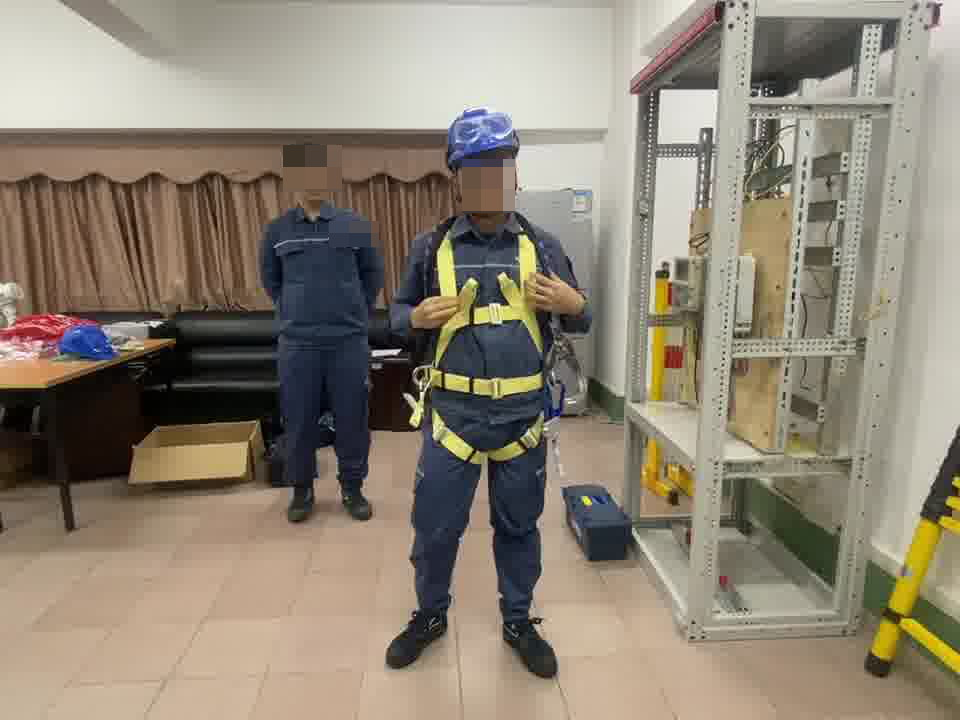downsuit: (407, 413, 553, 620), (275, 352, 372, 484)
halt: (443, 105, 526, 217)
hand: (528, 264, 582, 313), (407, 294, 461, 333)
noear: (279, 165, 301, 195)
person: (399, 102, 593, 669), (257, 140, 384, 521)
safebelt: (408, 213, 589, 468)
unhalt: (282, 141, 336, 210)
upsuit: (406, 210, 584, 401), (258, 206, 382, 341)
